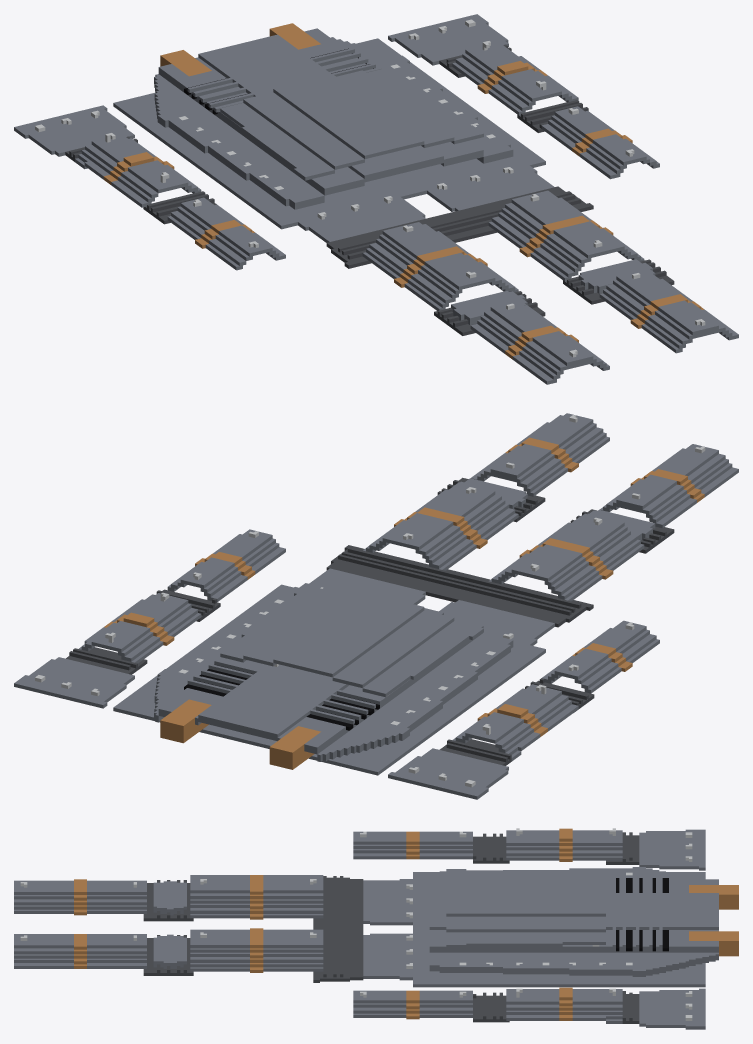
File: armor_ch_metal_sheets_chain_heavy.glb
3 renders of one model, top to bottom at view 1: azimuth 30°, elevation 25°; view 2: azimuth 150°, elevation 25°; view 3: azimuth 270°, elevation 25°, orthographic. The views are drawn at different scales.
Visible parts, largest first — view 1: armor_ch_metal_sheets_chain_heavy:compound; view 2: armor_ch_metal_sheets_chain_heavy:compound; view 3: armor_ch_metal_sheets_chain_heavy:compound.
Boxes of the visible parts, <box> form: armor_ch_metal_sheets_chain_heavy:compound: <box>14,14,738,384</box>; armor_ch_metal_sheets_chain_heavy:compound: <box>14,413,738,799</box>; armor_ch_metal_sheets_chain_heavy:compound: <box>14,828,738,1029</box>.
Bounding box in the file's own units: 0.84 × 0.06 × 1.31.
